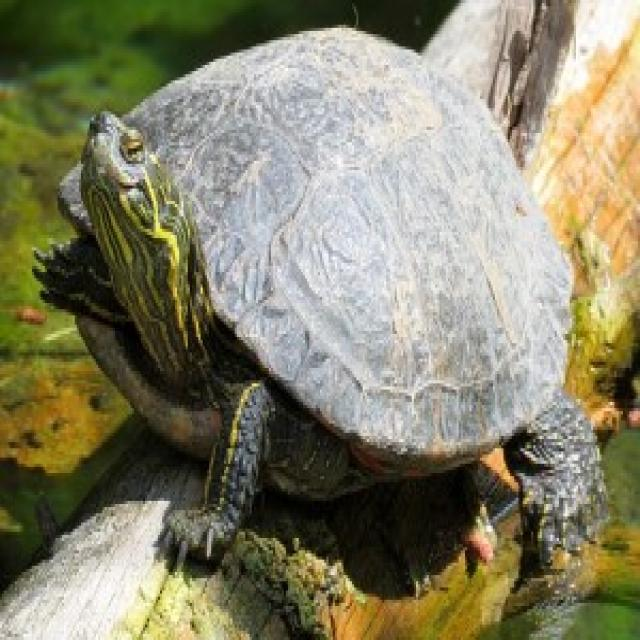Sea turtle: (32, 34, 640, 640)
